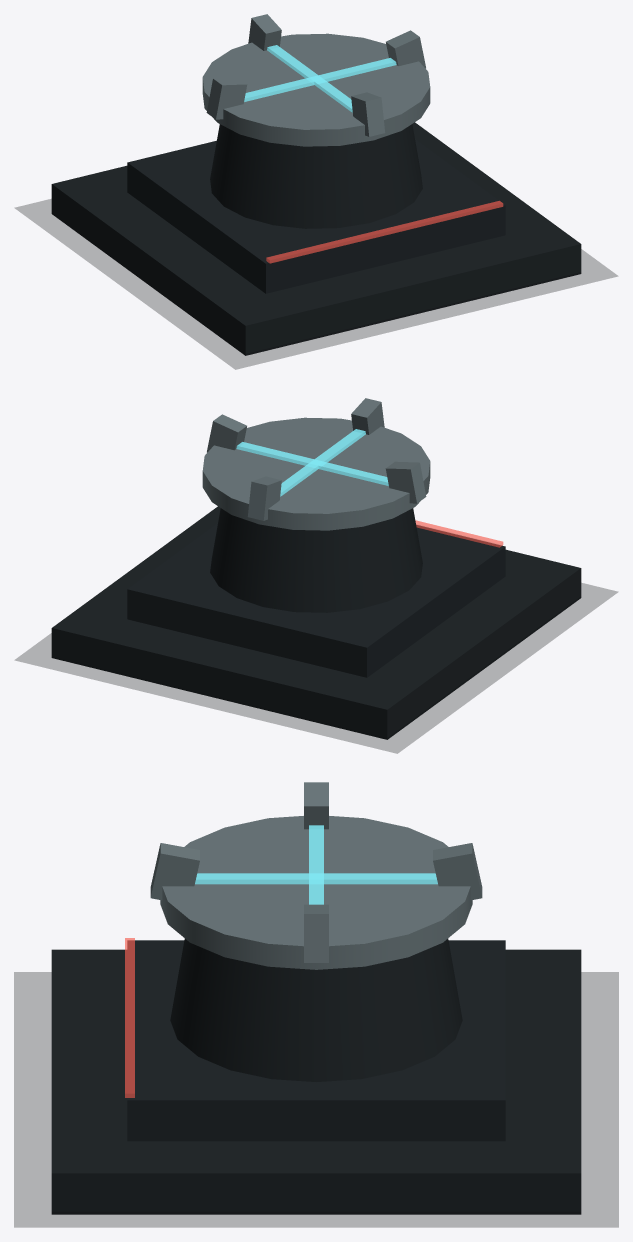
File: hp_room_rm_core_reclamation_altar.glb
3 views of the same model, one above another, from view 1: azimuth 30°, elevation 25°; view 2: azimuth 150°, elevation 25°; view 3: azimuth 270°, elevation 25° (orthographic). The views are drawn at different scales.
Visible parts, largest first — view 1: dais_lower, dais_upper, clamp_ring, altar_drum, contact_shadow, step_red_seam, ring_glow, clamp_jaw_3.141592653589793, clamp_jaw_1.5707963267948966, ring_glow_cross, clamp_jaw_0, clamp_jaw_4.71238898038469; view 2: dais_lower, dais_upper, clamp_ring, altar_drum, contact_shadow, ring_glow, clamp_jaw_3.141592653589793, clamp_jaw_4.71238898038469, ring_glow_cross, clamp_jaw_0, clamp_jaw_1.5707963267948966, step_red_seam; view 3: dais_lower, dais_upper, clamp_ring, altar_drum, contact_shadow, ring_glow_cross, clamp_jaw_1.5707963267948966, clamp_jaw_4.71238898038469, step_red_seam, clamp_jaw_0, ring_glow, clamp_jaw_3.141592653589793.
Part boxes in pixels (x1,y1,x2,y2): dais_lower: (51, 122, 581, 355); dais_upper: (127, 139, 505, 293); clamp_ring: (202, 33, 430, 146); altar_drum: (210, 124, 422, 228); contact_shadow: (15, 199, 617, 369); step_red_seam: (266, 201, 503, 263); ring_glow: (244, 58, 396, 101); clamp_jaw_3.141592653589793: (206, 77, 247, 119); clamp_jaw_1.5707963267948966: (351, 92, 385, 136); ring_glow_cross: (267, 45, 352, 112); clamp_jaw_0: (386, 30, 425, 68); clamp_jaw_4.71238898038469: (248, 14, 281, 50); dais_lower: (51, 506, 581, 739); dais_upper: (127, 523, 505, 677); clamp_ring: (202, 417, 430, 530); altar_drum: (210, 508, 422, 612); contact_shadow: (15, 583, 617, 753); ring_glow: (236, 442, 388, 485); clamp_jaw_3.141592653589793: (385, 461, 426, 503); clamp_jaw_4.71238898038469: (247, 476, 281, 520); ring_glow_cross: (280, 429, 365, 496); clamp_jaw_0: (207, 414, 246, 452); clamp_jaw_1.5707963267948966: (351, 398, 384, 434); step_red_seam: (415, 520, 503, 547); dais_lower: (51, 949, 581, 1214); dais_upper: (127, 940, 505, 1141); clamp_ring: (160, 816, 472, 969); altar_drum: (170, 938, 462, 1081); contact_shadow: (14, 972, 618, 1227); ring_glow_cross: (195, 873, 437, 884); clamp_jaw_1.5707963267948966: (150, 843, 199, 900); clamp_jaw_4.71238898038469: (433, 843, 482, 900); step_red_seam: (125, 938, 134, 1097); clamp_jaw_0: (304, 904, 328, 962); ring_glow: (309, 825, 323, 904); clamp_jaw_3.141592653589793: (304, 782, 328, 829).
Size of the model in its own units: 2.4 by 1.11 by 2.4.
